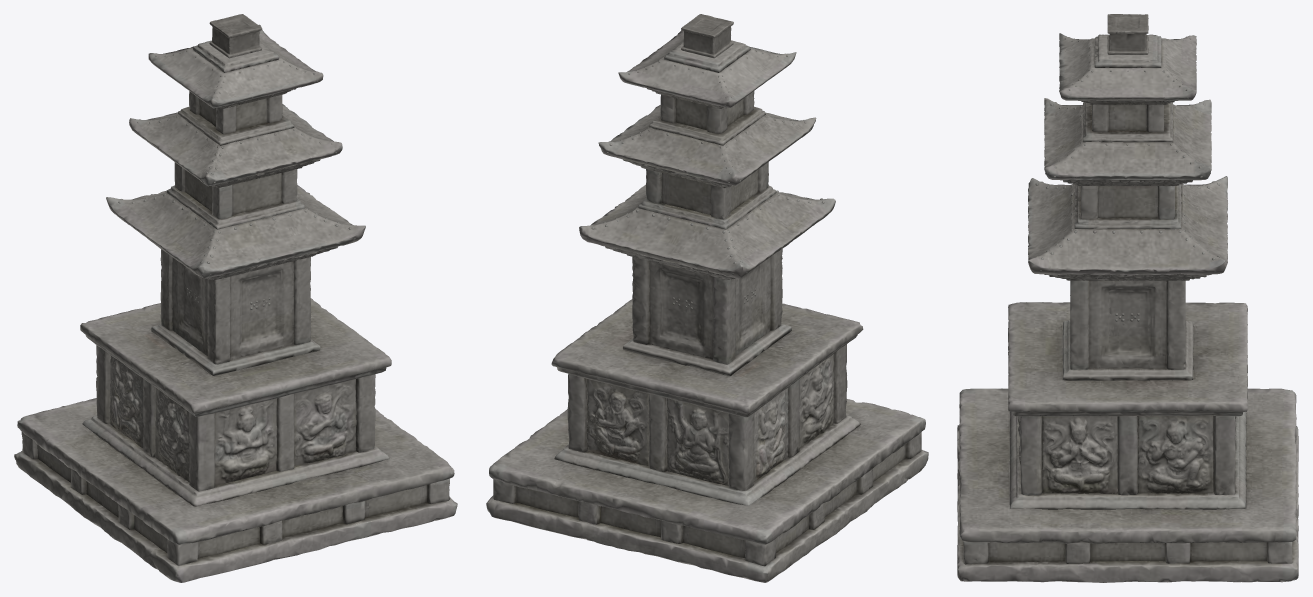
File: tap_w.glb
3 renders of one model, left to right at view 1: azimuth 30°, elevation 25°; view 2: azimuth 150°, elevation 25°; view 3: azimuth 270°, elevation 25°, orthographic. The views are drawn at different scales.
Visible parts, largest first — view 1: All_top.001, All_top.001_Cube1_0.001; view 2: All_top.001, All_top.001_Cube1_0.001; view 3: All_top.001, All_top.001_Cube1_0.001.
Part boxes in pixels (<box>): All_top.001: <box>14,24,457,582</box>; All_top.001_Cube1_0.001: <box>209,14,346,500</box>; All_top.001: <box>486,30,928,582</box>; All_top.001_Cube1_0.001: <box>667,14,755,485</box>; All_top.001: <box>957,33,1298,582</box>; All_top.001_Cube1_0.001: <box>959,14,1148,479</box>.
Bounding box in the file's own units: 3.41 × 5.38 × 3.4.
Materials: 1 (1 with a texture image).
